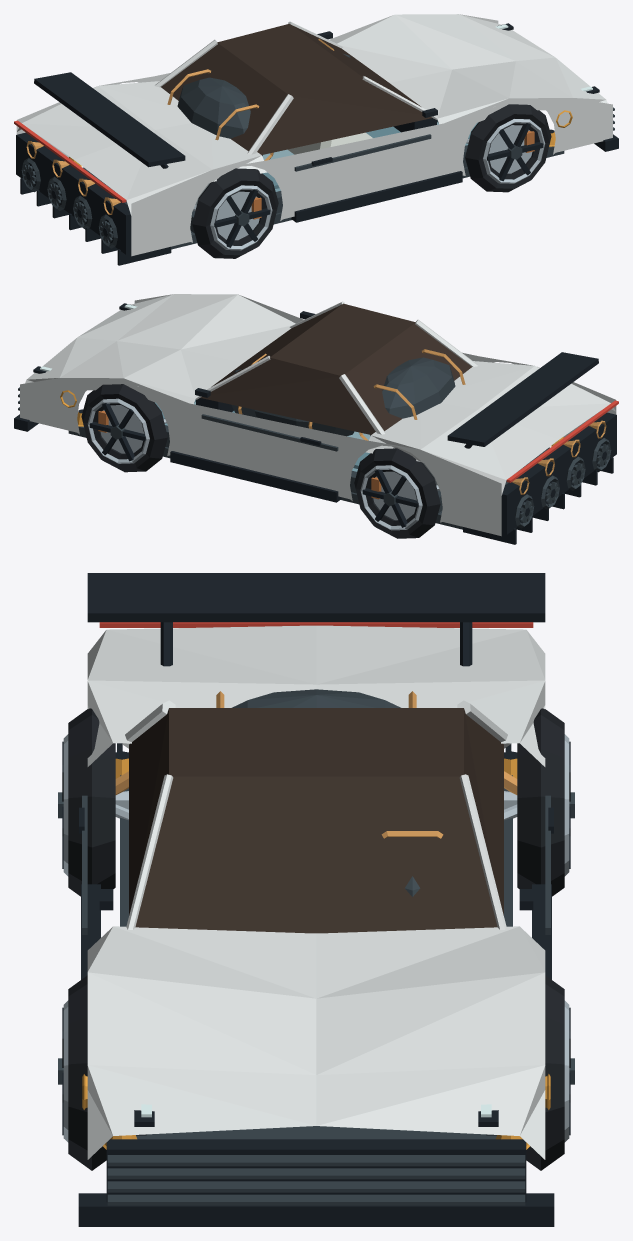
File: roadster-rocket.obj
The picture shows the model from 3 angles, top to bottom: view 1: azimuth 30°, elevation 25°; view 2: azimuth 150°, elevation 25°; view 3: azimuth 270°, elevation 25°; orthographic projection. The views are drawn at different scales.
Parts seen in each view (by area): view 1: part, Faceted_side_with_wheel_arches, Faceted_tire, Side_glazing, Glass_roof, Active_rear_wing_schematic, Rear_glass, Rear_fascia, Rear_COPV_200L_schematic, Spoke, Wheel_rim, Brake_disc (+7 smaller); view 2: part, Faceted_side_with_wheel_arches, Faceted_tire, Side_glazing, Glass_roof, Active_rear_wing_schematic, Rear_glass, Rear_fascia, Rear_COPV_200L_schematic, Spoke, Wheel_rim, Brake_disc (+7 smaller); view 3: part, Windshield, Active_rear_wing_schematic, Faceted_tire, Glass_roof, Front_splitter, Front_intake, Side_glazing, Carbon_floor, Wheel_rim, Rear_COPV_200L_schematic, Full_width_tail_light (+4 smaller).
Part boxes in pixels (bbox=[...]): part: bbox=[17, 14, 614, 243]; Faceted_side_with_wheel_arches: bbox=[16, 14, 612, 256]; Faceted_tire: bbox=[192, 104, 551, 258]; Side_glazing: bbox=[257, 78, 432, 154]; Glass_roof: bbox=[217, 23, 362, 95]; Active_rear_wing_schematic: bbox=[34, 72, 185, 167]; Rear_glass: bbox=[161, 43, 287, 150]; Rear_fascia: bbox=[16, 132, 131, 254]; Rear_COPV_200L_schematic: bbox=[177, 77, 262, 155]; Spoke: bbox=[214, 123, 543, 247]; Wheel_rim: bbox=[210, 119, 545, 250]; Brake_disc: bbox=[216, 125, 532, 240]; part: bbox=[18, 294, 615, 522]; Faceted_side_with_wheel_arches: bbox=[20, 294, 616, 536]; Faceted_tire: bbox=[81, 384, 440, 538]; Side_glazing: bbox=[200, 357, 375, 434]; Glass_roof: bbox=[270, 303, 415, 375]; Active_rear_wing_schematic: bbox=[447, 352, 598, 446]; Rear_glass: bbox=[345, 322, 471, 430]; Rear_fascia: bbox=[501, 412, 616, 534]; Rear_COPV_200L_schematic: bbox=[370, 357, 455, 435]; Spoke: bbox=[89, 403, 418, 527]; Wheel_rim: bbox=[87, 398, 422, 530]; Brake_disc: bbox=[100, 405, 416, 520]; part: bbox=[81, 622, 551, 1205]; Windshield: bbox=[135, 776, 497, 933]; Active_rear_wing_schematic: bbox=[87, 573, 545, 622]; Faceted_tire: bbox=[68, 708, 564, 1170]; Glass_roof: bbox=[169, 708, 463, 776]; Front_splitter: bbox=[78, 1193, 554, 1226]; Front_intake: bbox=[106, 1139, 526, 1202]; Side_glazing: bbox=[129, 709, 503, 915]; Carbon_floor: bbox=[136, 1126, 496, 1139]; Wheel_rim: bbox=[63, 734, 569, 1142]; Rear_COPV_200L_schematic: bbox=[232, 689, 400, 707]; Full_width_tail_light: bbox=[99, 622, 533, 627].
Size of the model in its own units: 5.13 by 1.31 by 2.32.
